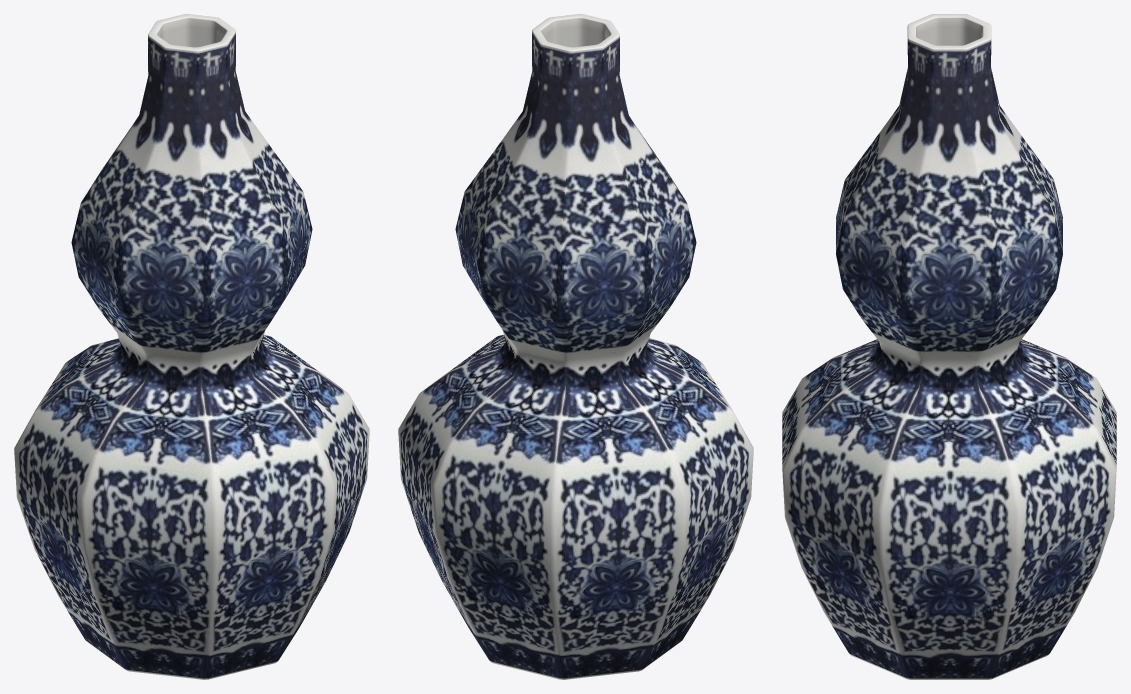
File: buyuk-vazo.glb
3 renders of one model, left to right at view 1: azimuth 30°, elevation 25°; view 2: azimuth 150°, elevation 25°; view 3: azimuth 270°, elevation 25°, orthographic.
Visible parts, largest first — view 1: Vase.001; view 2: Vase.001; view 3: Vase.001.
Part boxes in pixels (left/top/right/bottom): Vase.001: left=14, top=14, right=369, bottom=679; Vase.001: left=398, top=14, right=753, bottom=679; Vase.001: left=782, top=14, right=1116, bottom=679.
Bounding box in the file's own units: 0.2675 × 0.5362 × 0.2675.
Materials: 1 (1 with a texture image).
